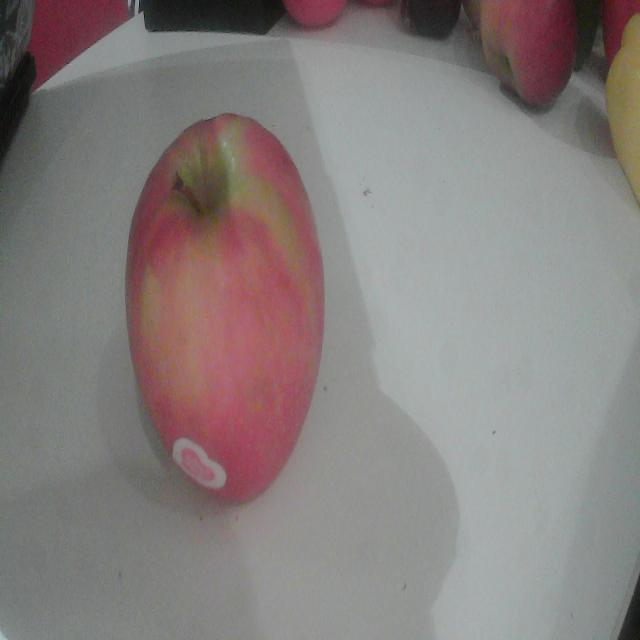Apple: (126, 114, 324, 501)
